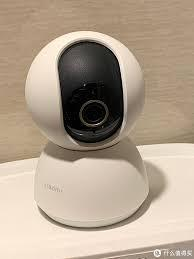maru: (25, 31, 146, 151)
